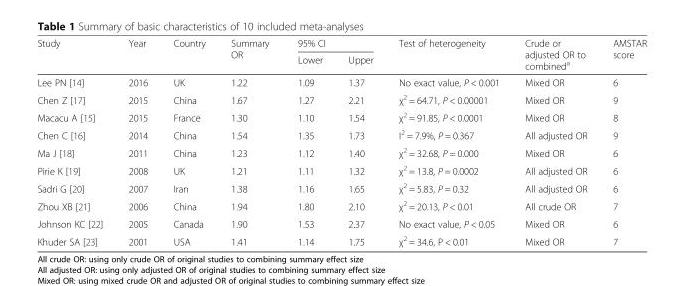table: (36, 37, 646, 247)
table column: (385, 37, 511, 247), (511, 37, 599, 247), (36, 37, 114, 247), (217, 37, 282, 247), (159, 37, 217, 247), (282, 37, 334, 247), (334, 37, 385, 247), (599, 37, 646, 247), (114, 37, 159, 247)
table column header: (36, 37, 646, 73)
table row: (36, 51, 646, 73), (36, 107, 646, 125), (36, 125, 646, 143), (36, 143, 646, 161), (36, 178, 646, 196), (36, 196, 646, 214), (36, 73, 646, 90), (36, 90, 646, 107), (36, 161, 646, 178), (36, 214, 646, 231), (36, 231, 646, 247), (36, 37, 646, 51)
table spanning cell: (385, 37, 511, 73), (511, 37, 599, 73), (36, 37, 114, 73), (217, 37, 282, 73), (159, 37, 217, 73), (599, 37, 646, 73), (114, 37, 159, 73), (282, 37, 385, 51)
